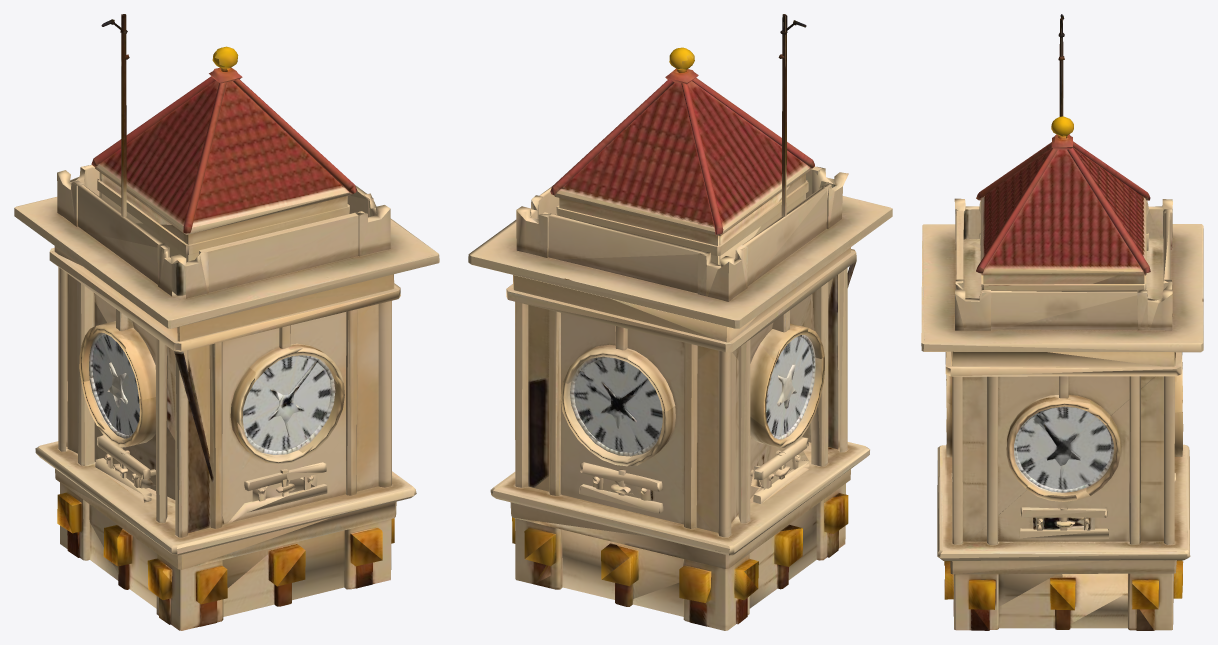
Rendered from clock-tower-top.glb.
The picture shows the model from 3 angles, left to right: view 1: azimuth 30°, elevation 25°; view 2: azimuth 150°, elevation 25°; view 3: azimuth 270°, elevation 25°; orthographic projection. The views are drawn at different scales.
Bounding box in the file's own units: 4.25 × 8.53 × 4.2.
Materials: 1 (1 with a texture image).
